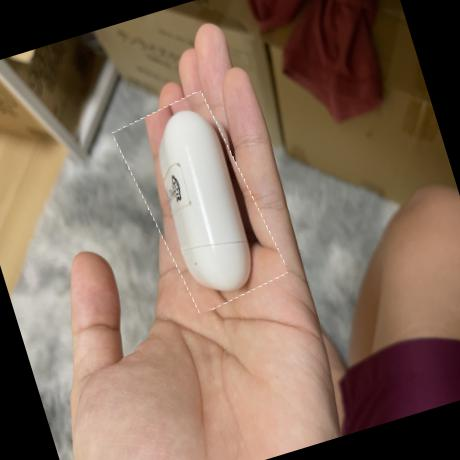airpod2: (116, 87, 285, 318)
